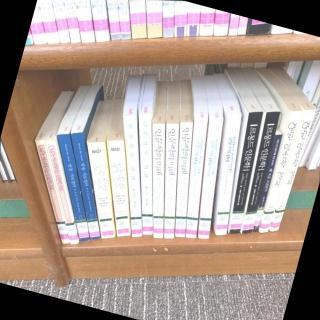book-spine: (268, 106, 316, 233), (257, 107, 301, 233), (239, 108, 280, 235), (226, 109, 262, 235), (35, 138, 69, 244), (194, 116, 223, 238), (58, 132, 90, 241), (213, 113, 240, 235), (46, 139, 77, 244), (70, 131, 100, 239), (251, 133, 282, 231), (182, 118, 207, 237), (87, 141, 115, 238), (106, 139, 130, 236), (124, 115, 142, 236), (161, 124, 178, 238), (175, 122, 192, 236), (138, 113, 152, 234), (152, 124, 164, 236), (39, 1, 56, 33), (76, 1, 93, 32), (52, 1, 68, 30), (28, 5, 44, 34), (64, 1, 79, 28), (93, 0, 106, 30), (108, 2, 120, 33), (131, 0, 146, 24), (118, 2, 130, 31), (188, 2, 200, 24), (149, 3, 162, 23), (176, 3, 186, 24), (270, 212, 283, 228), (165, 3, 173, 27), (65, 226, 76, 240), (57, 225, 68, 239), (231, 215, 242, 228), (89, 223, 99, 236), (262, 214, 271, 227), (119, 221, 129, 232), (187, 221, 197, 232), (103, 223, 113, 234), (245, 217, 254, 229), (219, 217, 228, 228), (79, 225, 88, 236), (201, 223, 210, 234), (133, 221, 141, 232), (177, 221, 185, 232), (155, 221, 162, 232), (145, 219, 152, 230), (167, 221, 174, 232), (203, 27, 212, 35), (231, 17, 238, 27), (257, 213, 262, 225), (241, 17, 246, 26)
